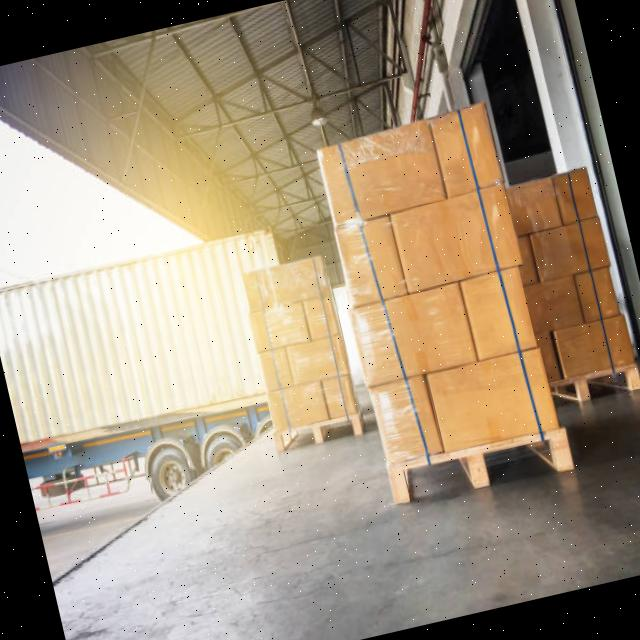Wooden-Pallets: (384, 420, 578, 512), (268, 408, 372, 462)
